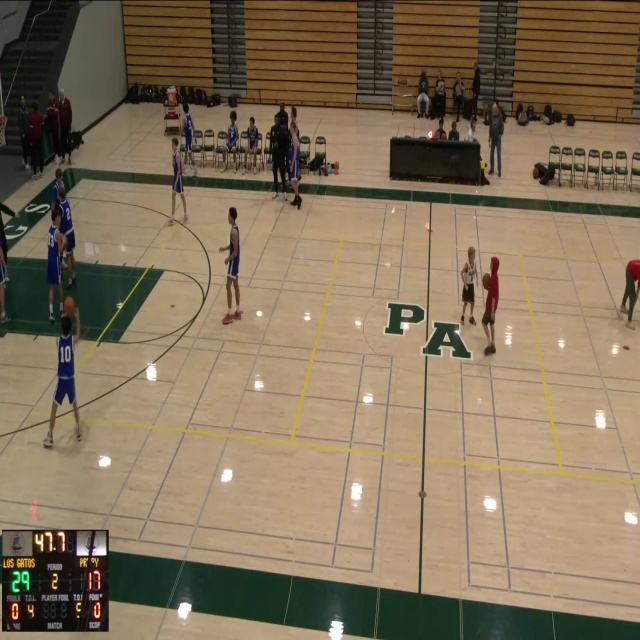Basketball: (63, 296, 75, 316), (482, 273, 490, 290)
